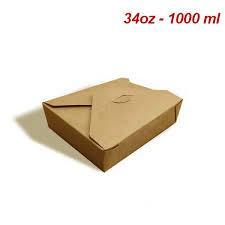box: (42, 78, 183, 173)
